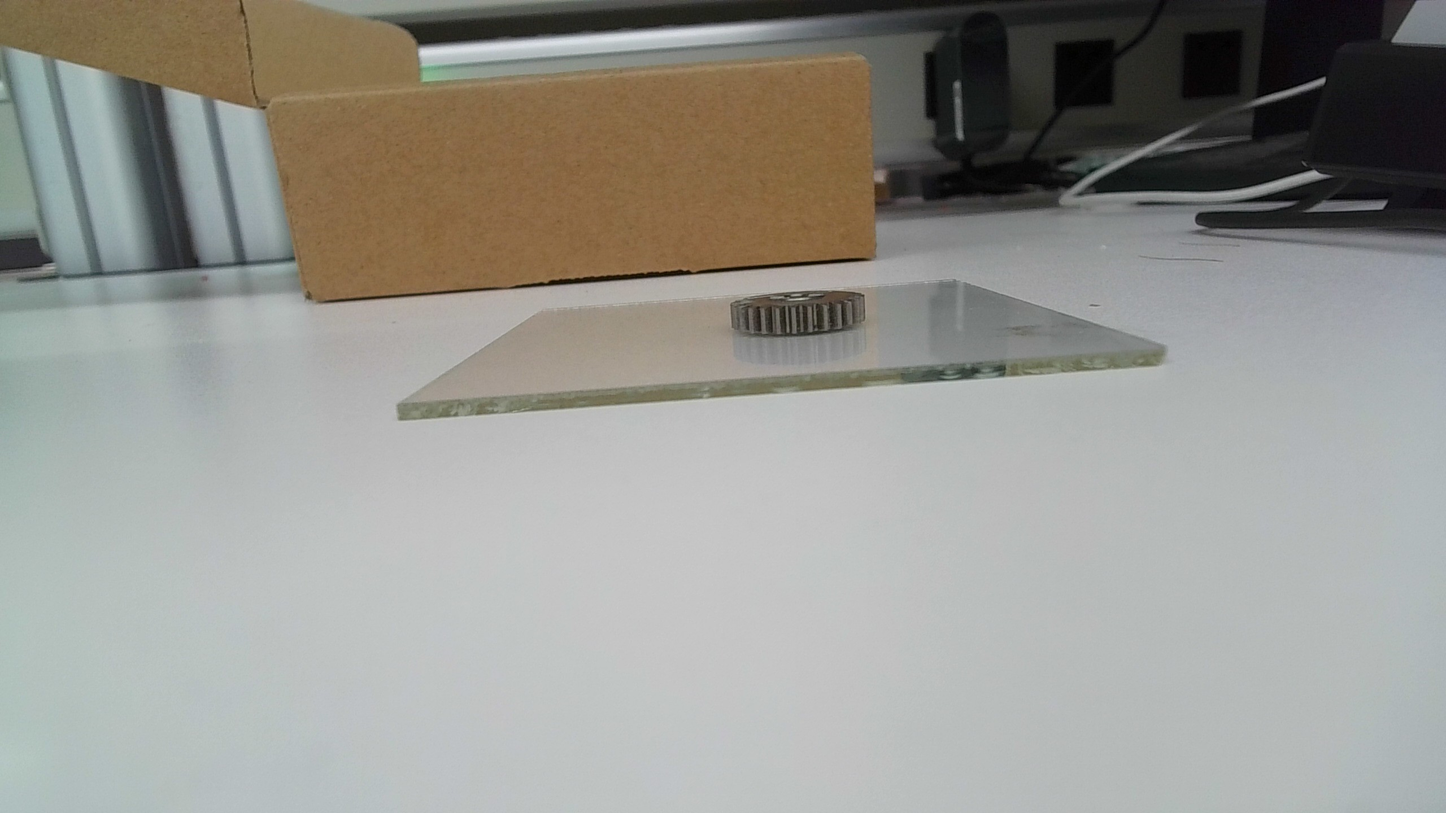gear: (729, 290, 869, 339)
